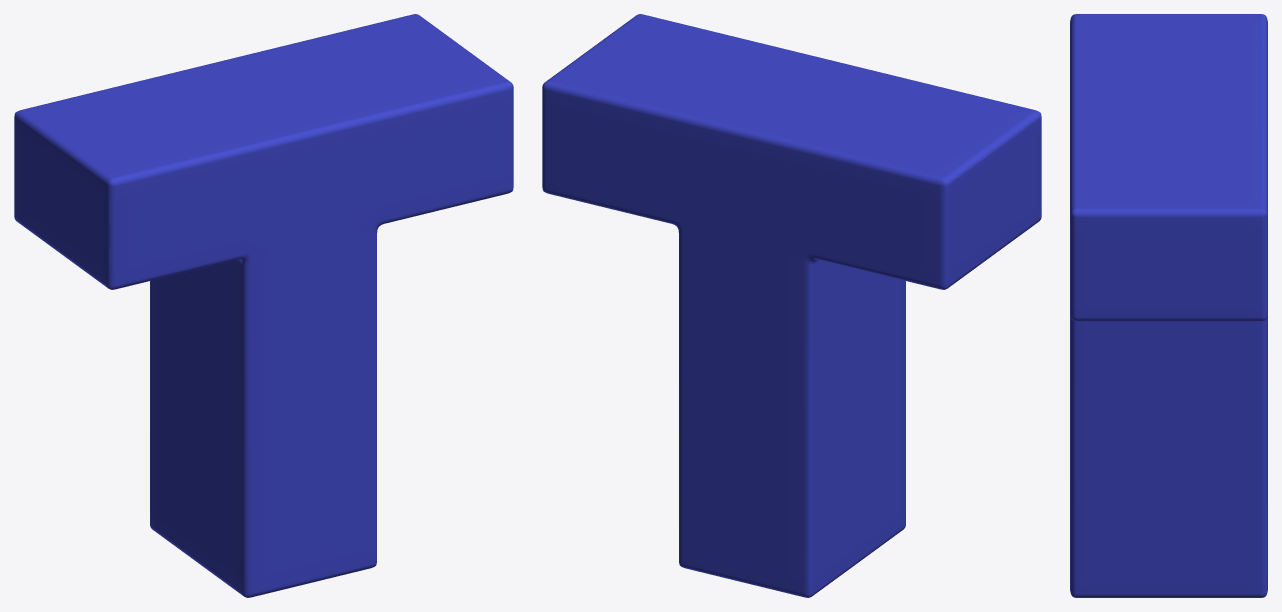
File: modelT.glb
3 views of the same model, side by side, from view 1: azimuth 30°, elevation 25°; view 2: azimuth 150°, elevation 25°; view 3: azimuth 270°, elevation 25° (orthographic).
Visible parts, largest first — view 1: node_id140_1; view 2: node_id140_1; view 3: node_id140_1.
Boxes of the visible parts, left/top/right/bottom form: node_id140_1: left=14, top=14, right=513, bottom=597; node_id140_1: left=542, top=14, right=1041, bottom=597; node_id140_1: left=1070, top=14, right=1267, bottom=597.
Bounding box in the file's own units: 0.4807 × 0.512 × 0.2011.
Materials: 1 (1 with a texture image).
